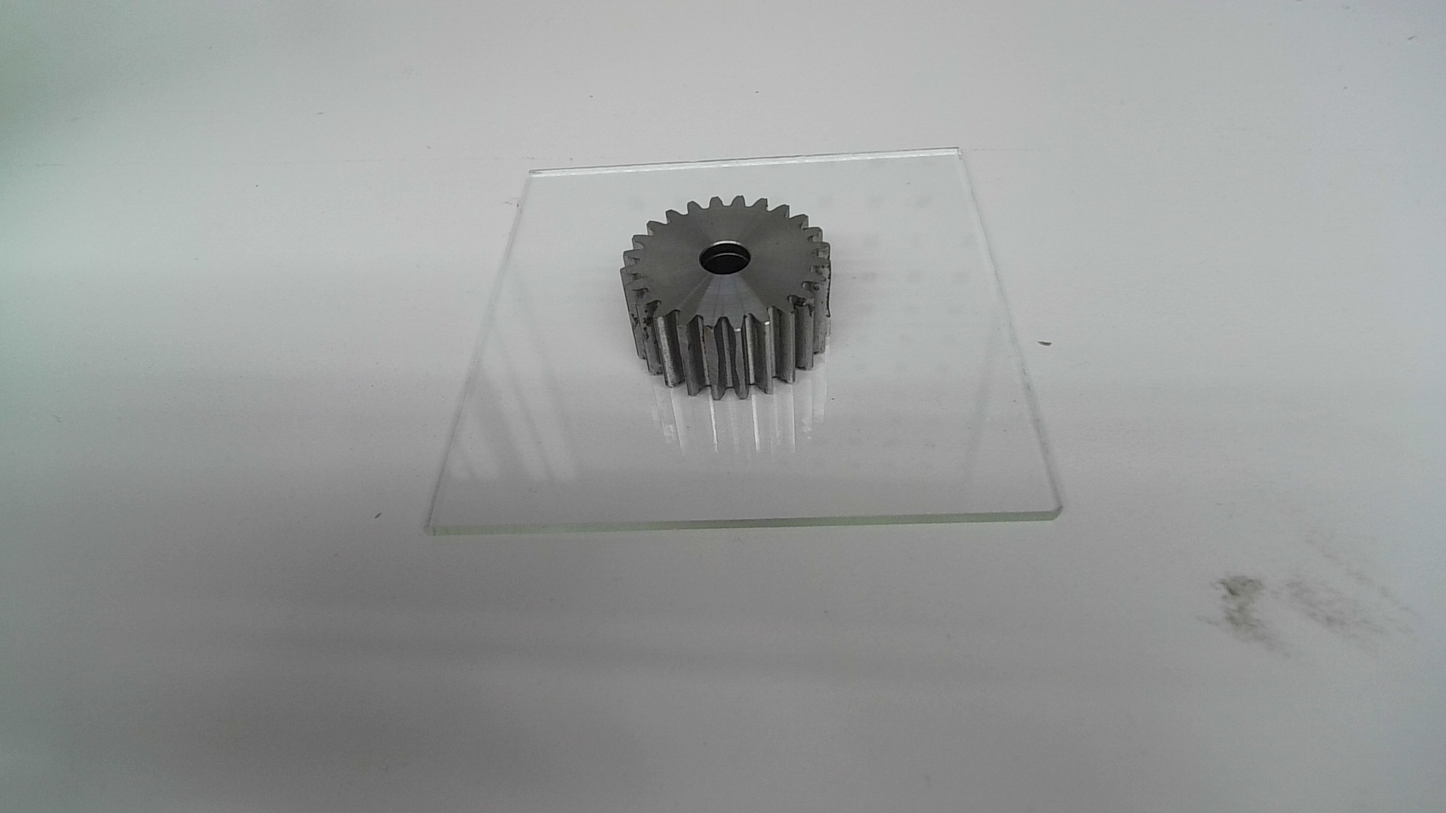gear: (615, 192, 838, 403)
